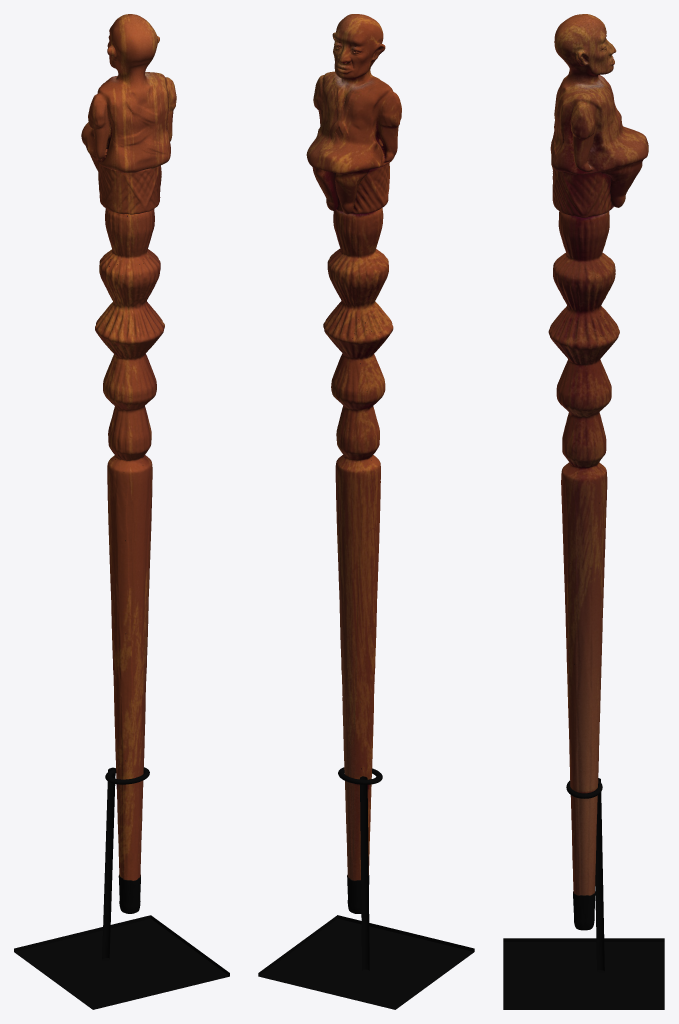
Rendered from Iranti-textured-20260702.glb.
The picture shows the model from 3 angles, left to right: view 1: azimuth 30°, elevation 25°; view 2: azimuth 150°, elevation 25°; view 3: azimuth 270°, elevation 25°; orthographic projection. The views are drawn at different scales.
Parts seen in each view (by area): view 1: Staff_02_Web; view 2: Staff_02_Web; view 3: Staff_02_Web.
Boxes of the visible parts, box(x1,y1,x2,y2) form: Staff_02_Web: box(14, 14, 229, 1009); Staff_02_Web: box(258, 14, 474, 1009); Staff_02_Web: box(503, 14, 664, 1009).
Bounding box in the file's own units: 0.1955 × 1.29 × 0.1955.
1 material, 1 textured.
